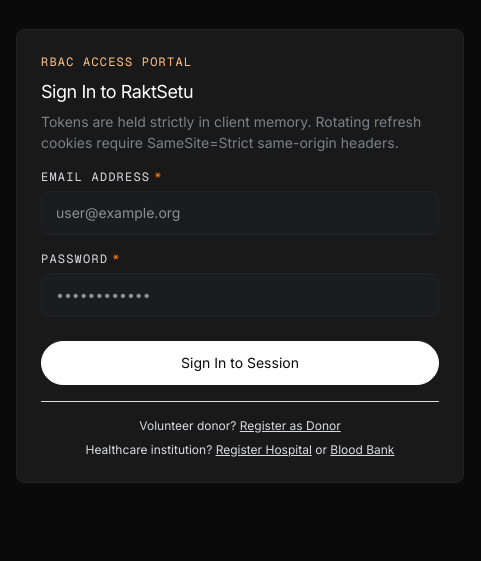
Test case: Auth Screens & Form UX Validation › displays generic error on invalid login credentials without user enumeration
Type "invalid@example.com" into the field labelled "Email Address*".
click(240, 213); type("invalid@example.com")  # box [41,191,439,235]
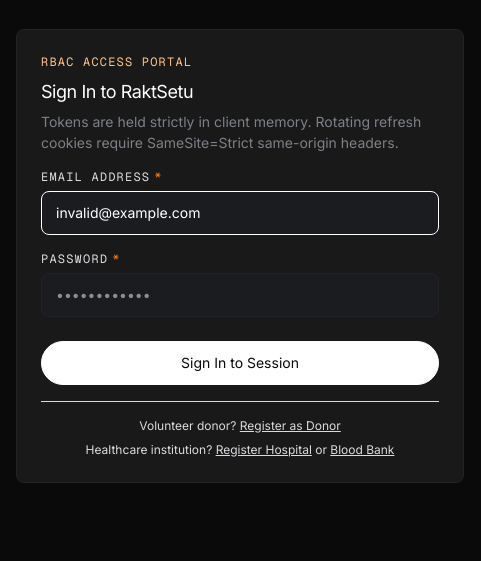
Type "wrongpassword" into the password field labelled "Password*".
click(240, 295); type("wrongpassword")  # box [41,273,439,317]
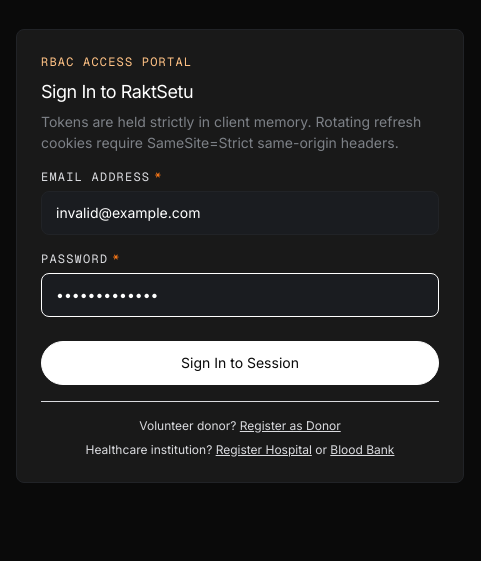
Click the button "Sign In to Session".
click(240, 363)  # box [41,341,439,385]
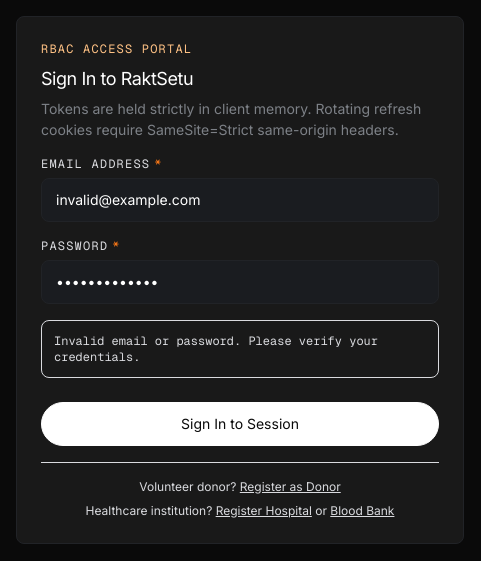
Expected: the text "Invalid email or password. Please verify your credentials." is shown, [41,320,439,378]
